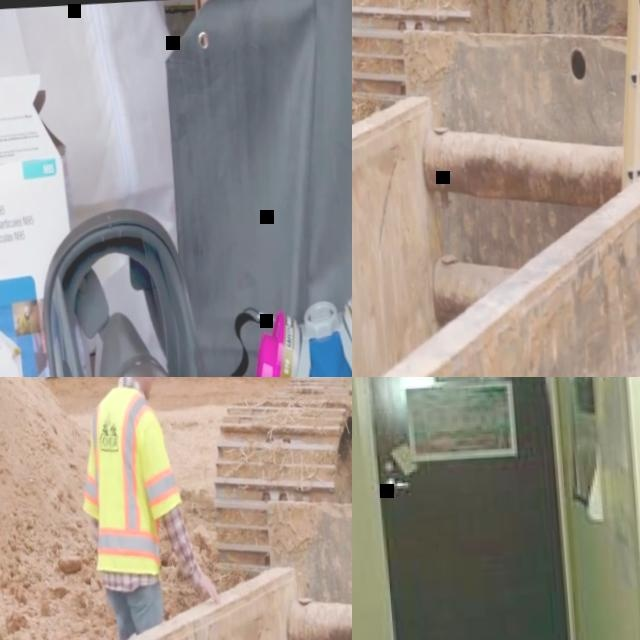Mask: (35, 199, 212, 377), (246, 281, 352, 377)
NO-Mask: (140, 377, 154, 398)
Person: (69, 377, 221, 640)
Safety Vest: (77, 389, 183, 564)
machinery: (352, 0, 640, 126), (195, 377, 352, 589)
